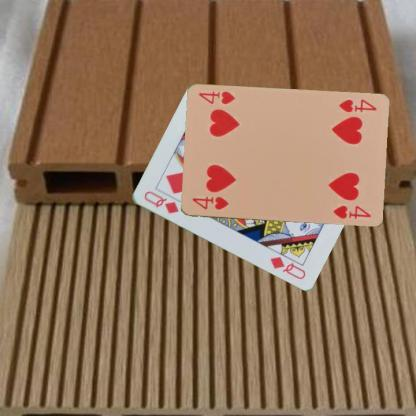4h: (336, 96, 377, 114), (190, 194, 230, 211)
Qd: (141, 188, 180, 215)
